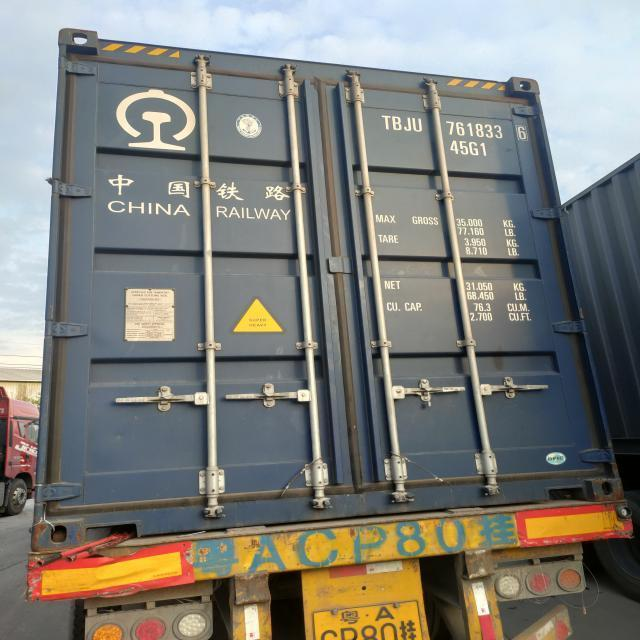ISO: (450, 140, 487, 158)
container_number: (385, 122, 525, 140)
